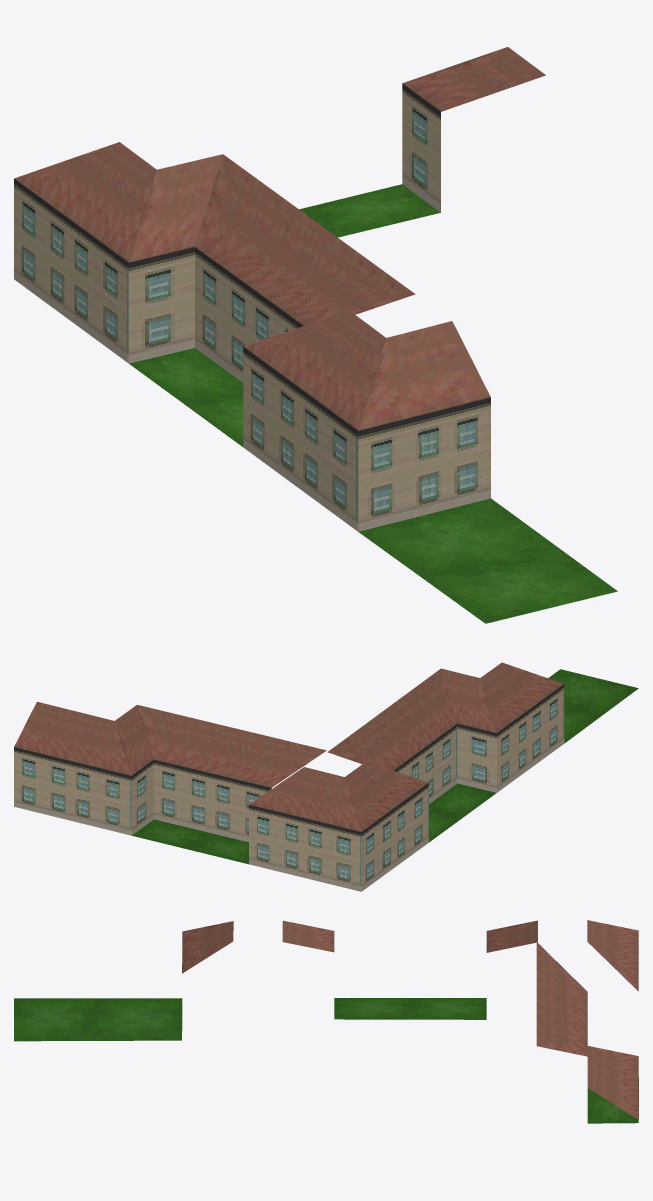
Rendered from AApart02.glb.
3 renders of one model, top to bottom at view 1: azimuth 30°, elevation 25°; view 2: azimuth 150°, elevation 25°; view 3: azimuth 270°, elevation 25°, orthographic. The views are drawn at different scales.
Visible parts, largest first — view 1: AApart02; view 2: AApart02; view 3: AApart02.
Part boxes in pixels (x1=…): AApart02: x1=14, y1=47, x2=617, y2=623; AApart02: x1=14, y1=662, x2=638, y2=891; AApart02: x1=14, y1=920, x2=638, y2=1123.
Size of the model in its own units: 7634 by 1882 by 10607.
2 materials, 2 textured.
